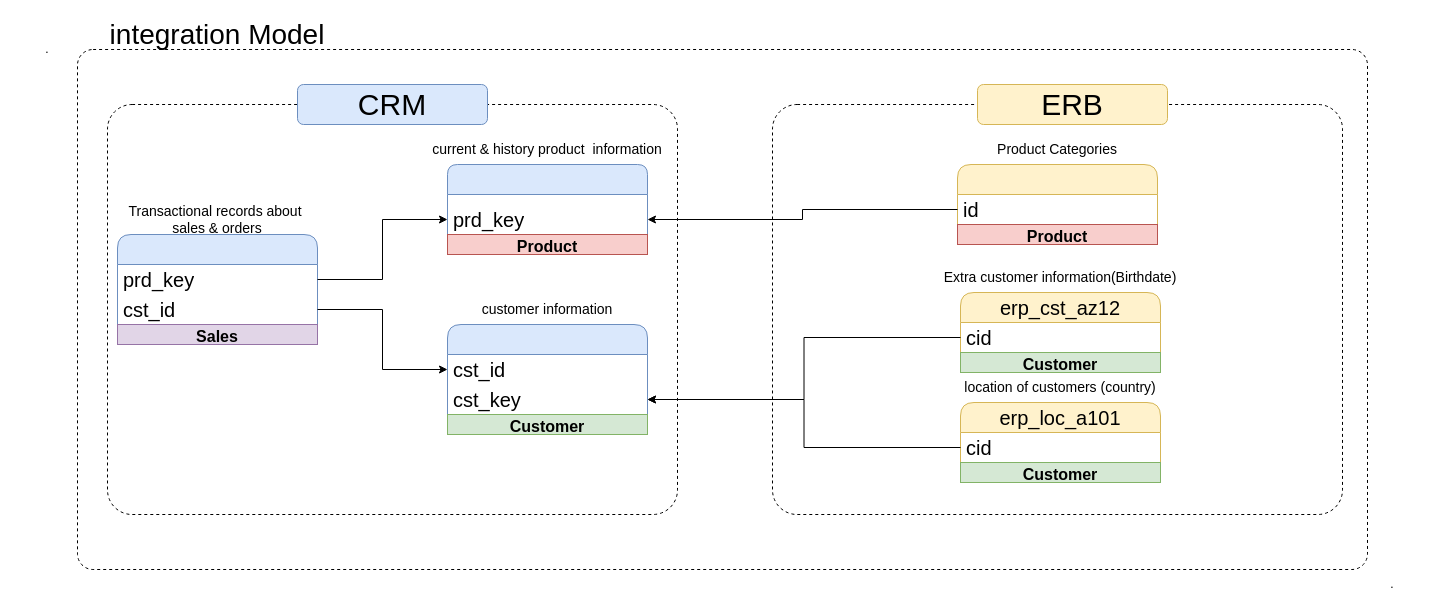
This 1439x616 diagram has some shape labels left out. Each missing label, with the box of its shape:
crm_cust_info: (446, 324, 648, 434)
crm_prd_info: (446, 164, 648, 244)
crm_sales_details: (116, 234, 318, 344)
erp_px_cat_g1v2: (956, 164, 1158, 244)
